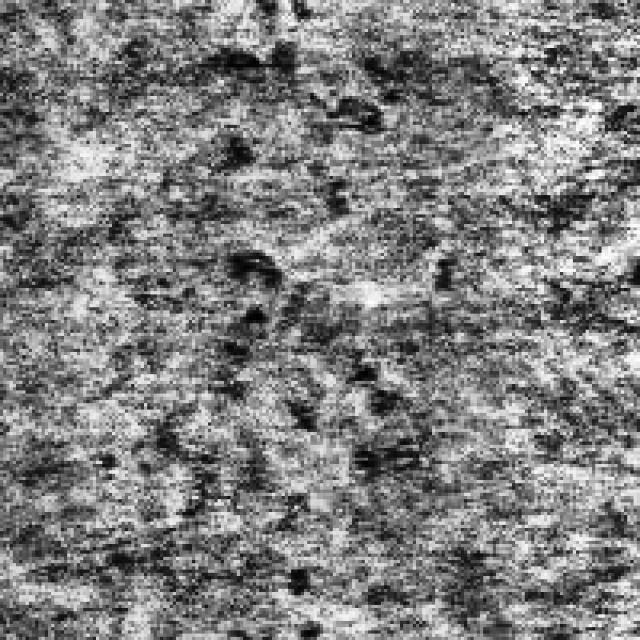Crazing: (215, 240, 406, 467)
